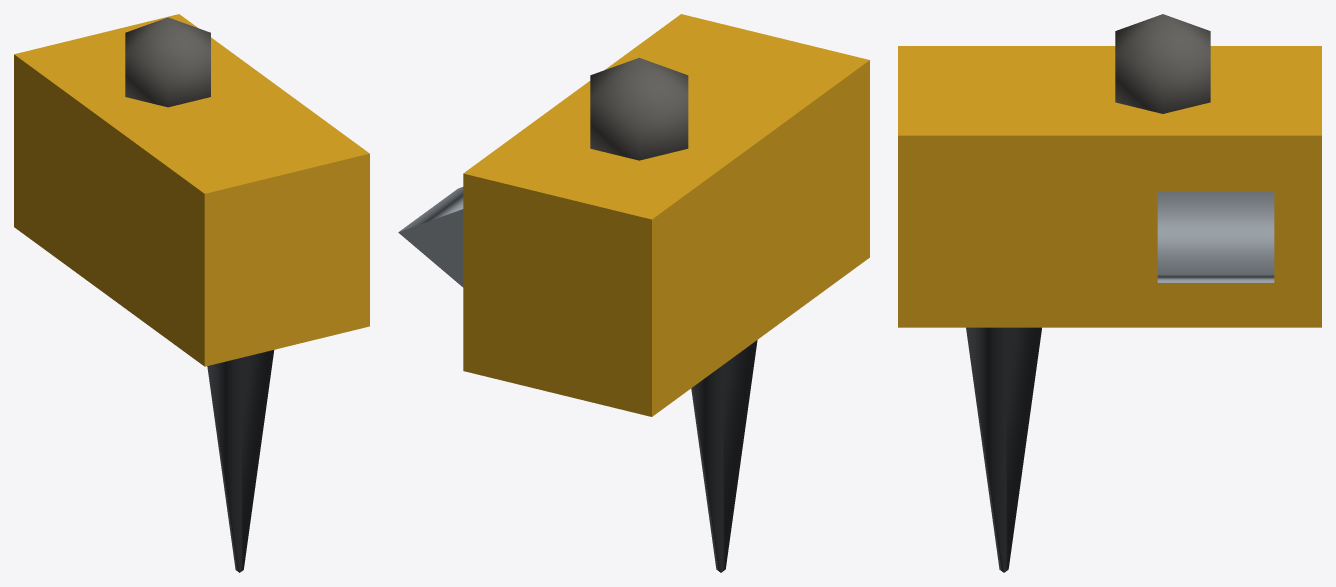
The model's file is space_orbital_extractor_t1_lod2.glb.
The picture shows the model from 3 angles, left to right: view 1: azimuth 30°, elevation 25°; view 2: azimuth 150°, elevation 25°; view 3: azimuth 270°, elevation 25°; orthographic projection. The views are drawn at different scales.
Visible parts, largest first — view 1: body, drill; view 2: body, drill; view 3: body, drill.
Boxes of the visible parts, x1,y1,x2,y2 form: body: [14, 14, 369, 366]; drill: [207, 350, 274, 572]; body: [398, 14, 869, 416]; drill: [691, 340, 757, 572]; body: [898, 14, 1321, 327]; drill: [966, 327, 1041, 572].
Bounding box in the file's own units: 5.9 × 11.6 × 8.
